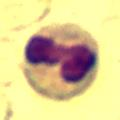eosi: (20, 22, 103, 101)
